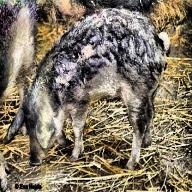boar: (3, 17, 181, 163)
